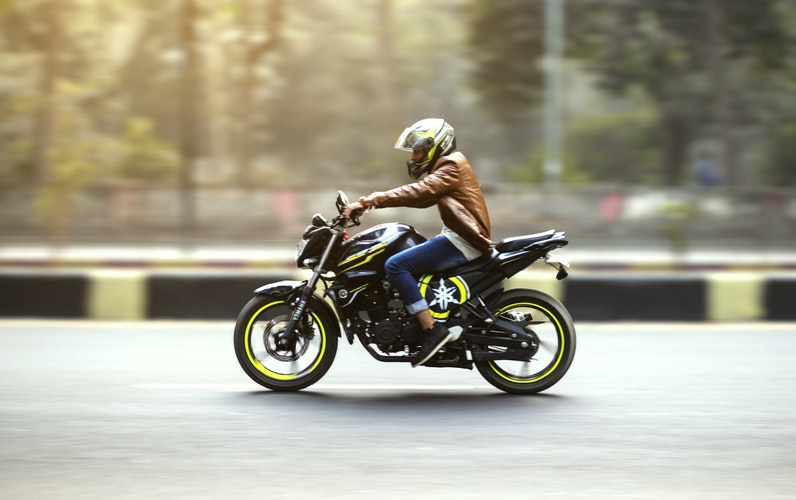helmet: (392, 106, 469, 187)
